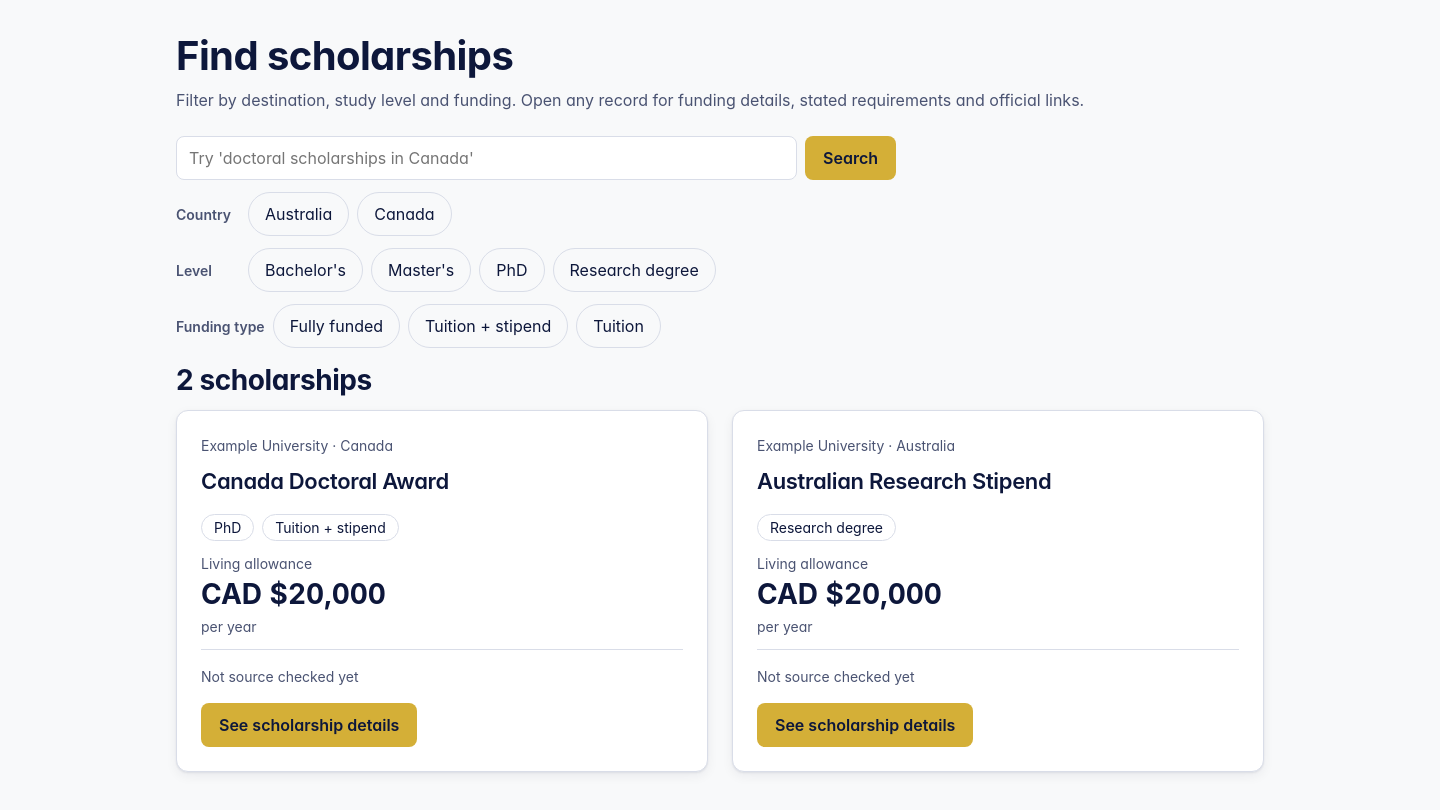
Test: ExplorePage › filters by the derived funding type
The image size is (1440, 810).
Click the button "Tuition + stipend". click: (488, 326)
box: [408,304,568,348]
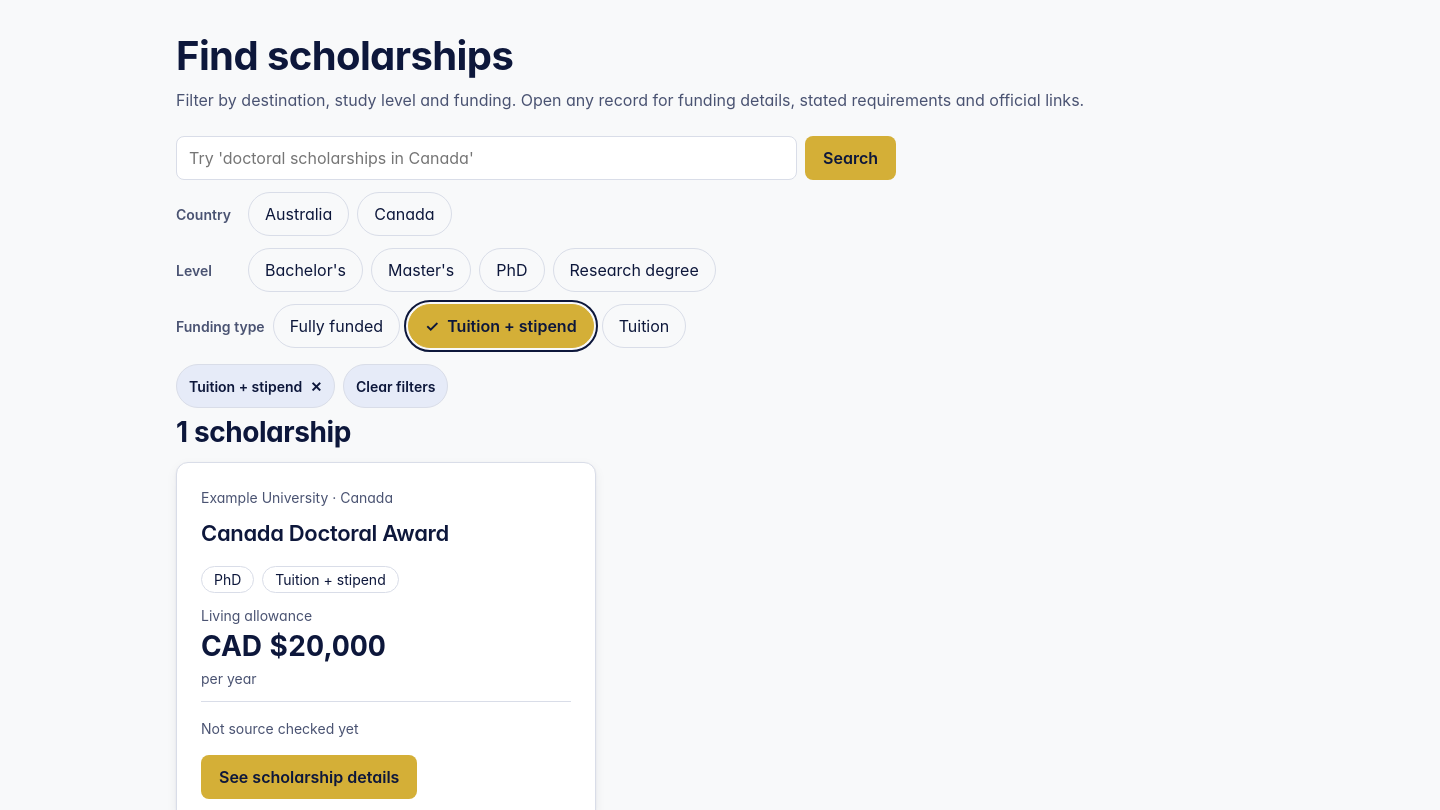
Expected: the heading "Canada Doctoral Award" is shown, [201,520,449,546]
Now the heading "1 scholarship" is shown, box [176,415,351,449]
